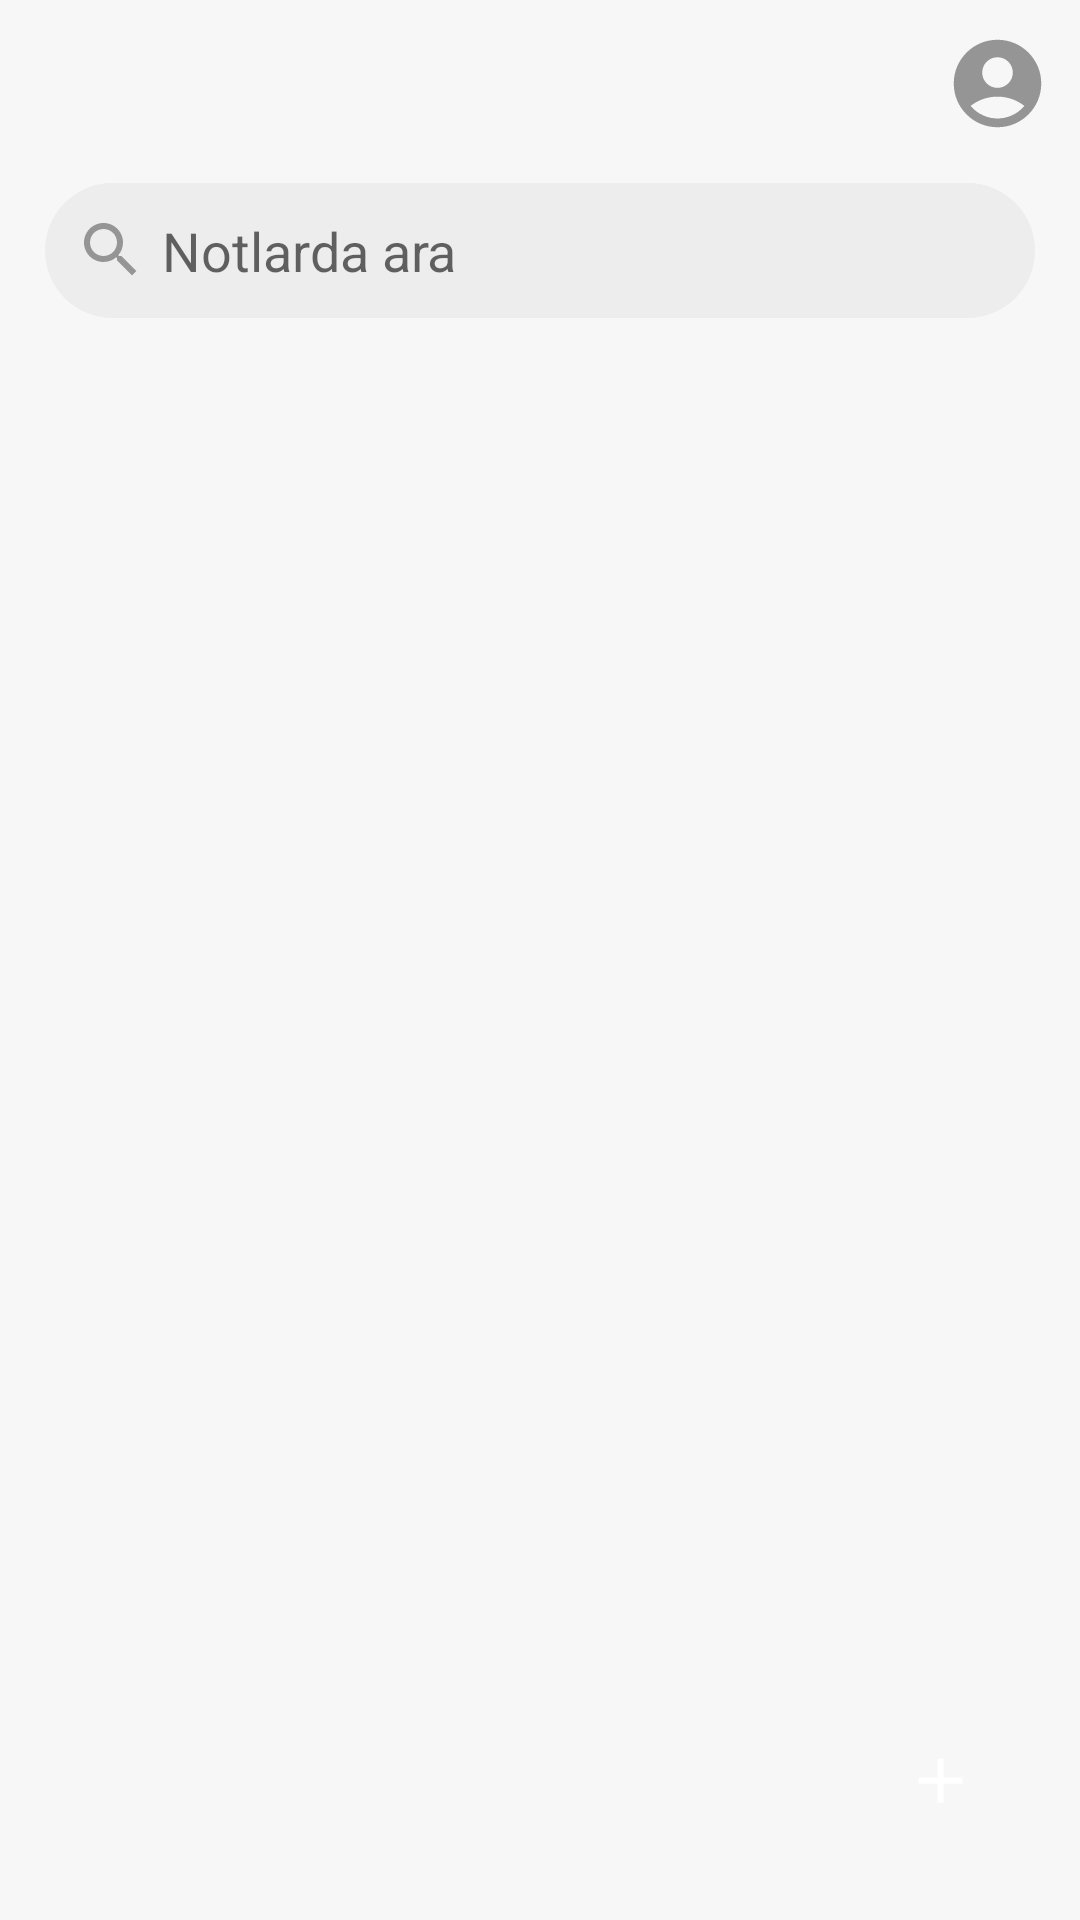

Icons on this 1080x1920 Android screen, each with the point to tap as point (x, y):
Profil: point (997, 84)
